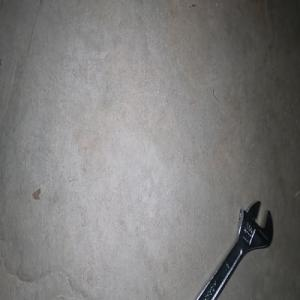Wrench: (196, 200, 272, 300)
